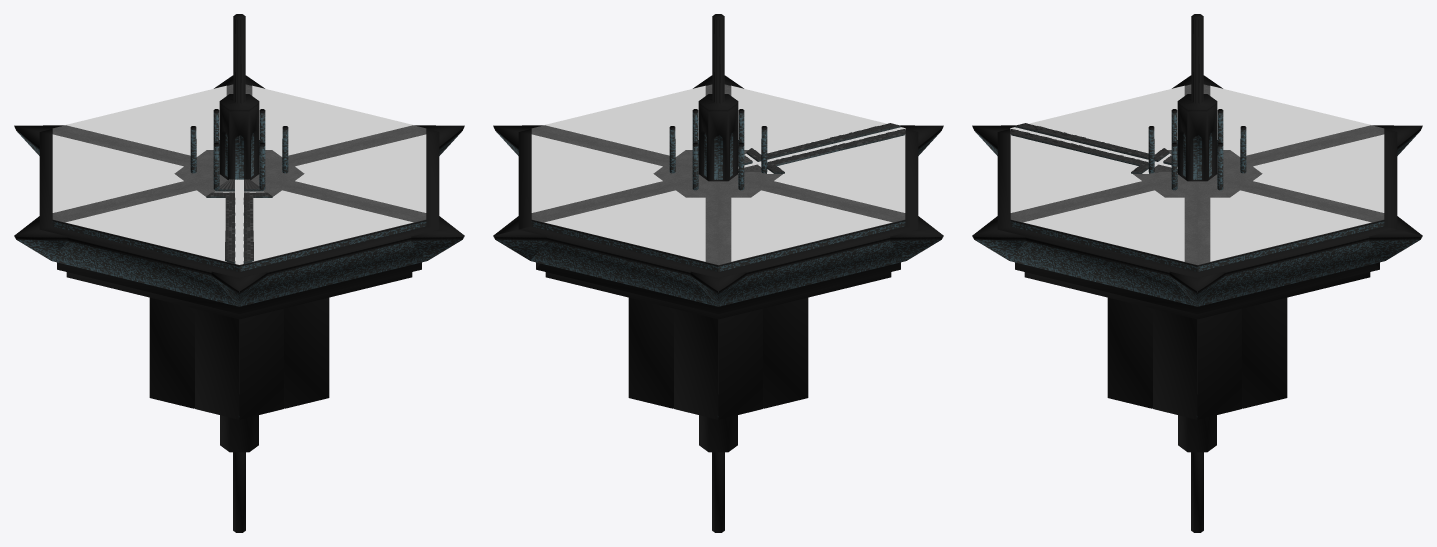
The model's file is MotherColonyHR.fbx.
The picture shows the model from 3 angles, left to right: view 1: azimuth 30°, elevation 25°; view 2: azimuth 150°, elevation 25°; view 3: azimuth 270°, elevation 25°; orthographic projection.
Visible parts, largest first — view 1: MotherColony, TopFloorHR, TopFloor; view 2: MotherColony, TopFloorHR, TopFloor; view 3: MotherColony, TopFloorHR, TopFloor.
Boxes of the visible parts, box(x1,y1,x2,y2) form: MotherColony: box(14, 14, 464, 532); TopFloorHR: box(52, 85, 426, 265); TopFloor: box(210, 192, 268, 263); MotherColony: box(493, 14, 943, 532); TopFloorHR: box(531, 85, 905, 261); TopFloor: box(744, 124, 905, 173); MotherColony: box(972, 14, 1422, 532); TopFloorHR: box(1010, 85, 1384, 261); TopFloor: box(1010, 124, 1164, 173).
Size of the model in its own units: 7997 by 8718 by 6926.
